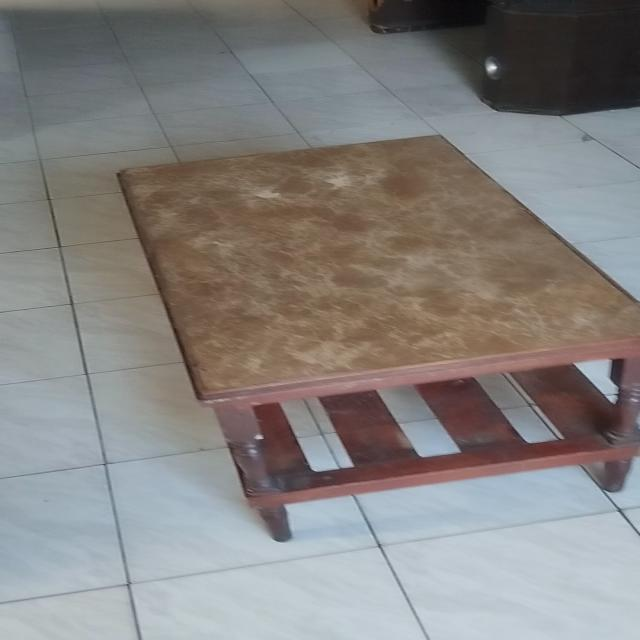table: (116, 128, 640, 526)
